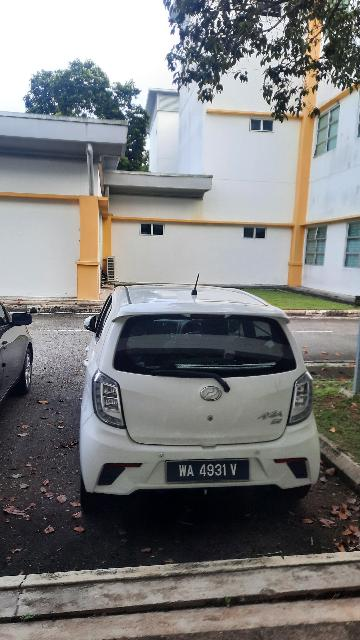License_Plate: (161, 458, 253, 487)
car: (77, 274, 323, 512)
